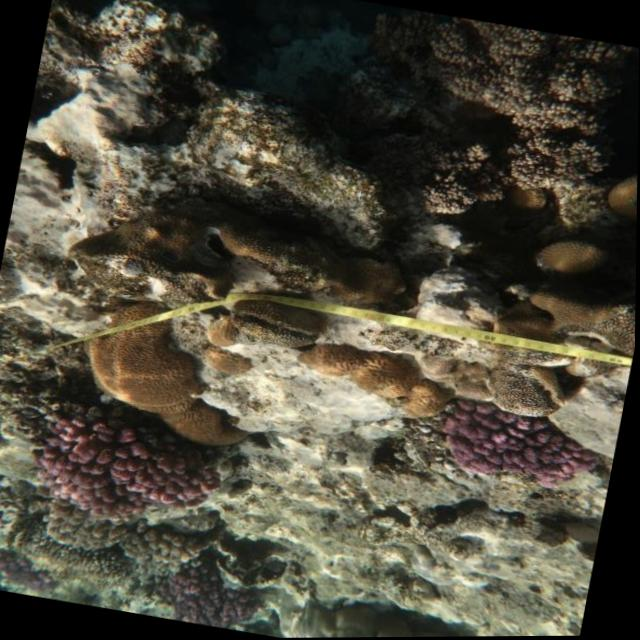Healthy Coral: (27, 406, 232, 546), (440, 398, 608, 497), (88, 296, 217, 420), (304, 342, 452, 419), (165, 562, 267, 634), (157, 395, 250, 447), (541, 234, 612, 280), (609, 169, 638, 226)
